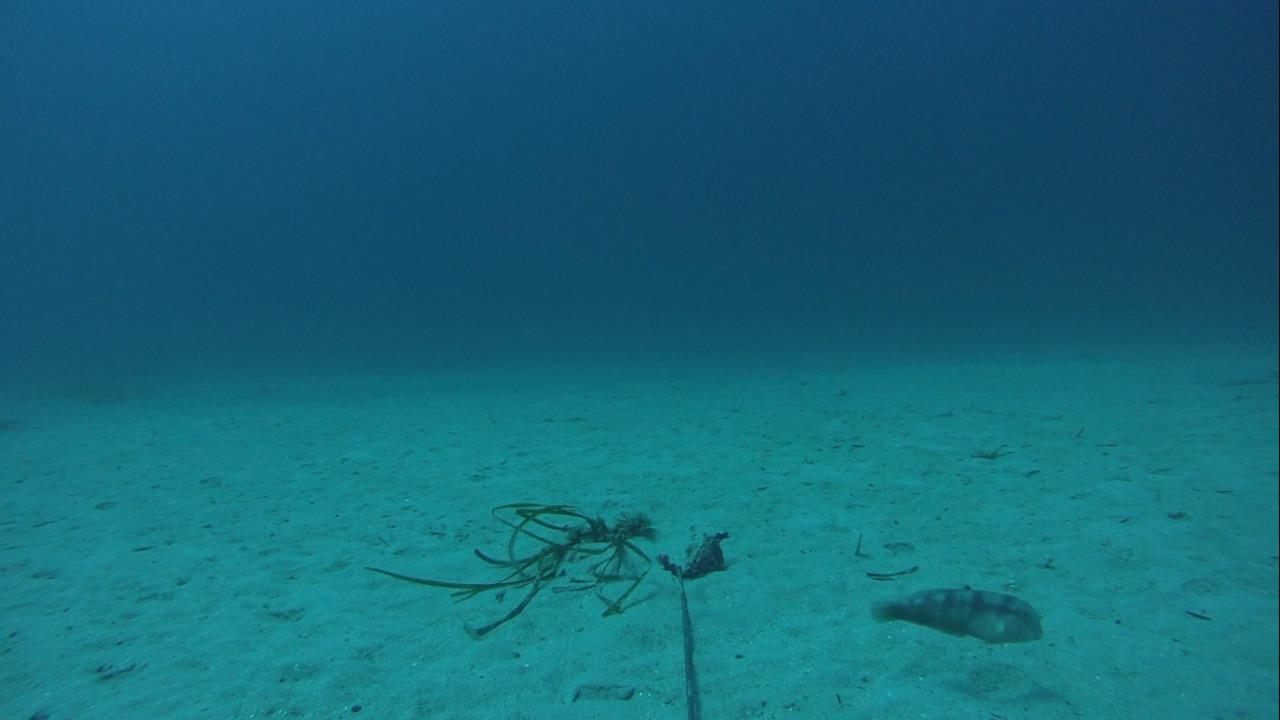raor: (863, 584, 1046, 650)
